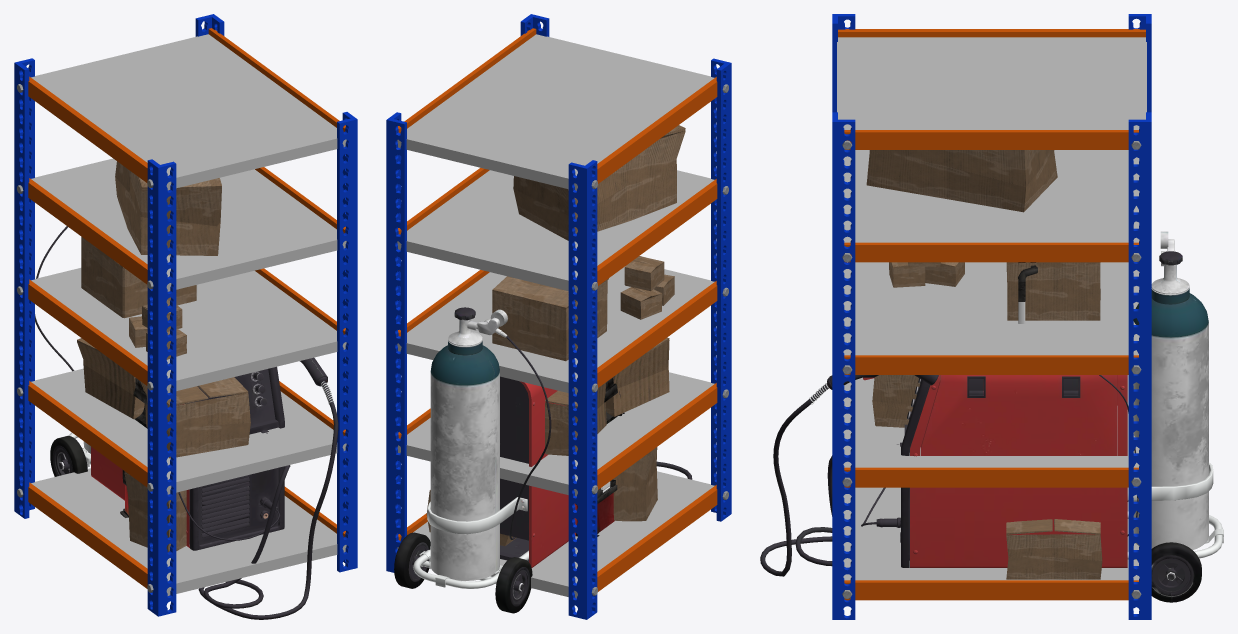
Rendered from cw_shop.glb.
3 views of the same model, side by side, from view 1: azimuth 30°, elevation 25°; view 2: azimuth 150°, elevation 25°; view 3: azimuth 270°, elevation 25° (orthographic). The views are drawn at different scales.
Visible parts, largest first — view 1: cw_shelf, cw_weld, cw_tbox; view 2: cw_shelf, cw_weld, cw_tbox; view 3: cw_shelf, cw_weld.
Boxes of the visible parts, x1,y1,x2,y2 form: cw_shelf: (14,14,357,616); cw_weld: (35,226,338,619); cw_tbox: (120,285,197,517); cw_shelf: (386,14,731,619); cw_weld: (394,307,692,613); cw_tbox: (575,377,622,536); cw_shelf: (832,14,1151,619); cw_weld: (760,231,1223,602).
Bounding box in the file's own units: 0.9527 × 2 × 1.69.
Materials: 20 (19 with a texture image).
